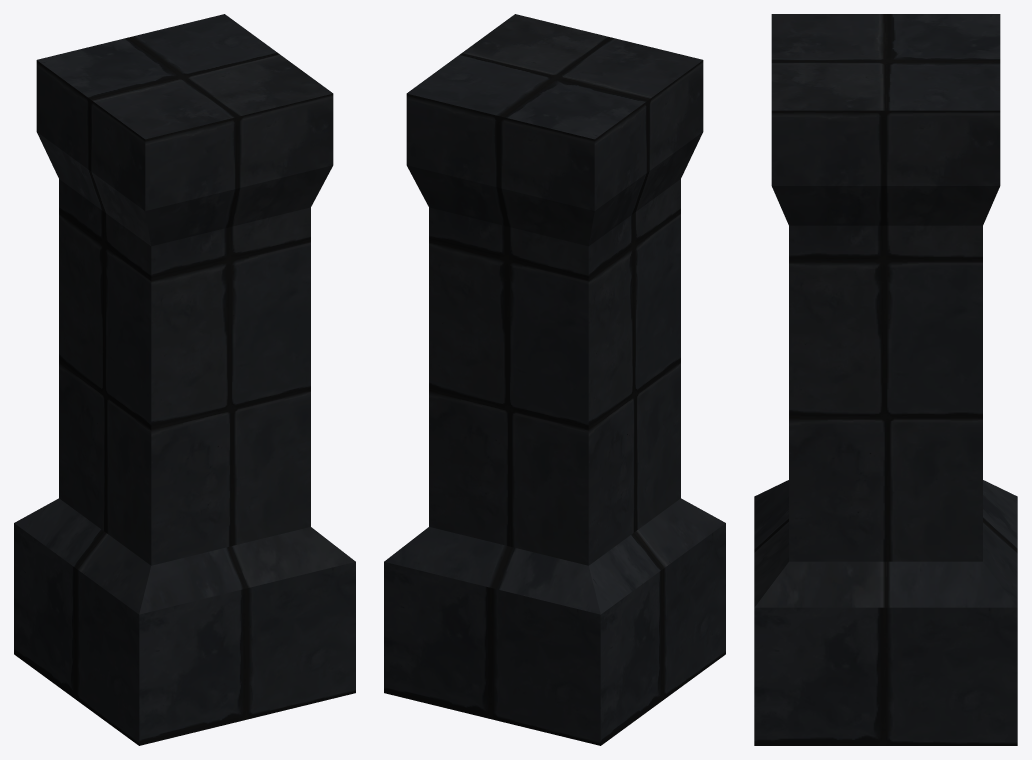
The model's file is column.glb.
3 views of the same model, side by side, from view 1: azimuth 30°, elevation 25°; view 2: azimuth 150°, elevation 25°; view 3: azimuth 270°, elevation 25° (orthographic). The views are drawn at different scales.
Visible parts, largest first — view 1: column; view 2: column; view 3: column.
Boxes of the visible parts, bbox=[...] form: column: bbox=[14, 14, 355, 745]; column: bbox=[384, 14, 725, 745]; column: bbox=[754, 14, 1017, 745].
Bounding box in the file's own units: 0.38 × 1 × 0.38.
Materials: 2 (2 with a texture image).
